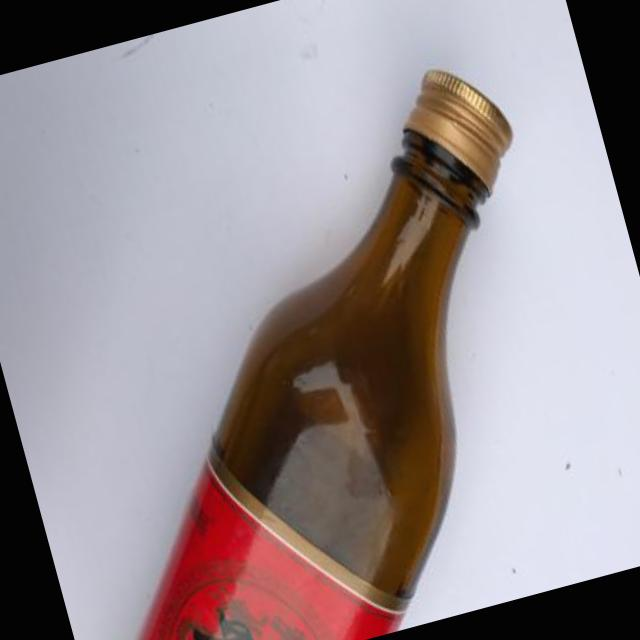chai_thuy_tinh: (214, 130, 489, 598)
kim_loai: (404, 70, 512, 191)
